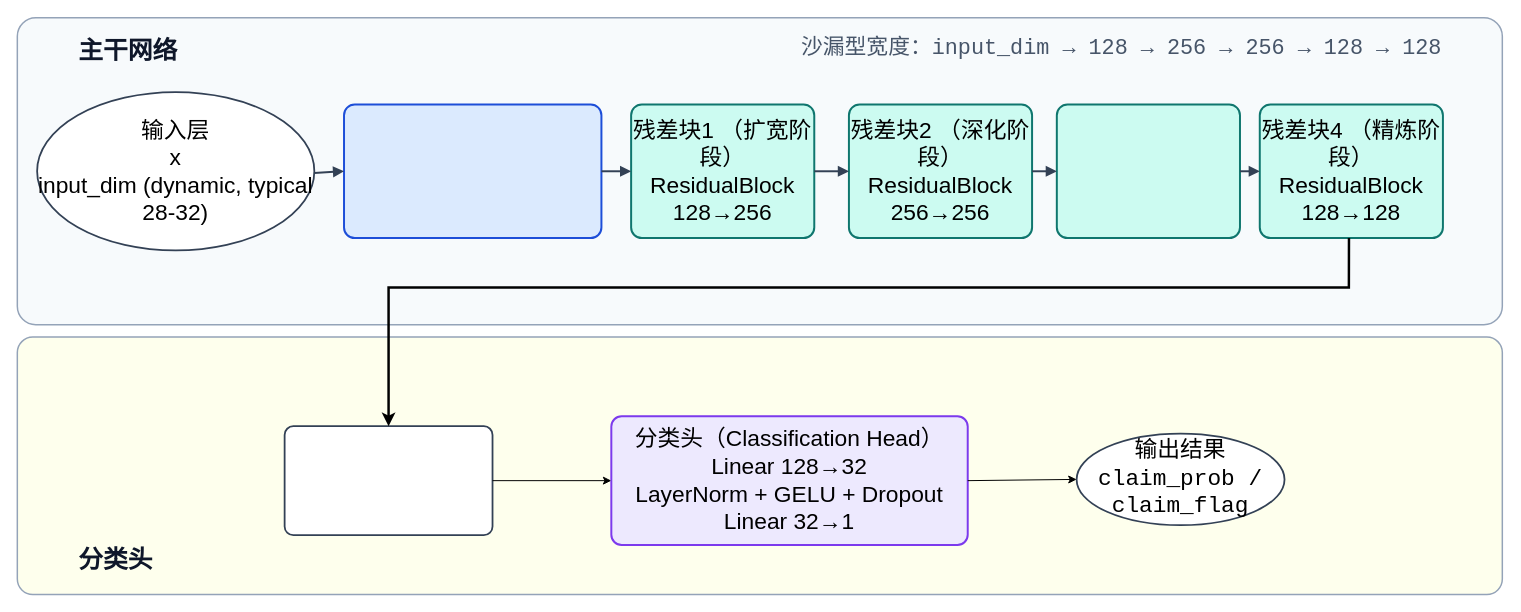
Some shapes in this 1521 by 612 pixel diagram are drawn without their labels. Each missing label, with the centre of its shape:
"残差块3 （收窄阶段） ResidualBlock 256→128" goes at point 1147,171.
"特征向量 feature vector dim = 128" goes at point 388,480.
"输入投影层 Linear(input_dim→128) LayerNorm + GELU + Dropout" goes at point 472,171.
